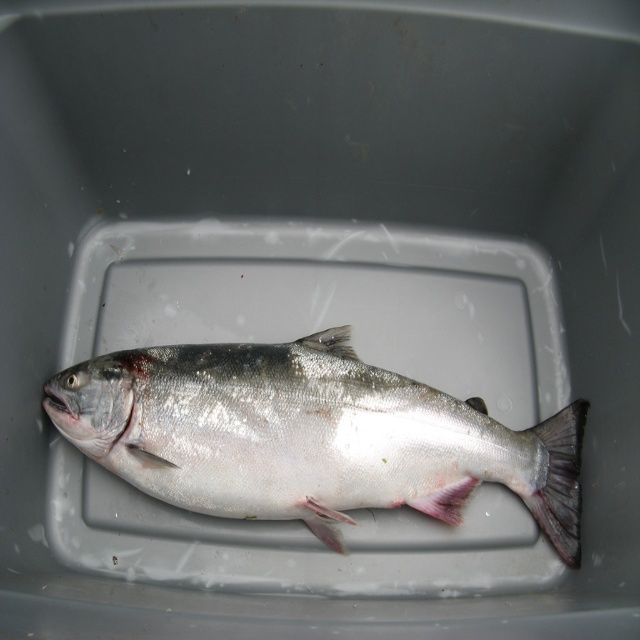Fish: (30, 318, 598, 564)
